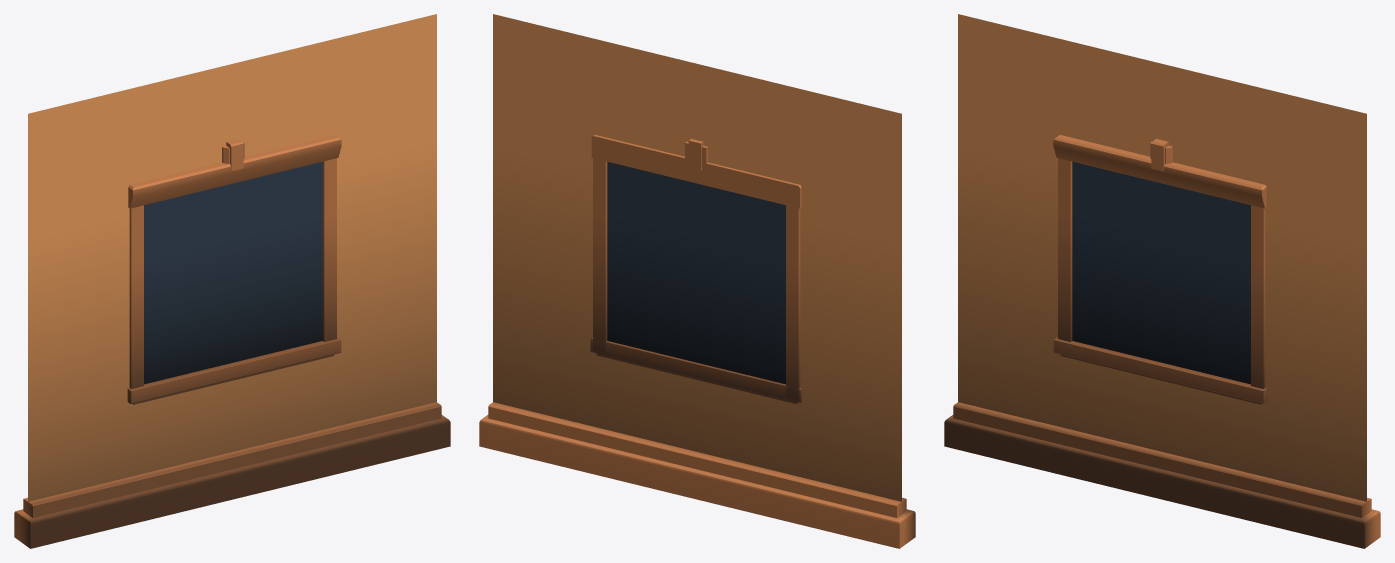
The model's file is blockedWall3.fbx.
The picture shows the model from 3 angles, left to right: view 1: azimuth 30°, elevation 25°; view 2: azimuth 150°, elevation 25°; view 3: azimuth 330°, elevation 25°; orthographic projection.
Visible parts, largest first — view 1: pPlane1, pCube1, pasted__pCube11, pasted__pCube10, pasted__pCube8, pasted__pCube9; view 2: pPlane1, pCube1, pasted__pCube11, pasted__pCube10, pasted__pCube8, pasted__pCube9, pasted__pCube12; view 3: pPlane1, pCube1, pasted__pCube11, pasted__pCube10, pasted__pCube8, pasted__pCube9.
Boxes of the visible parts, x1=… form: pPlane1: x1=28, y1=14, x2=436, y2=501; pCube1: x1=14, y1=402, x2=450, y2=548; pasted__pCube11: x1=128, y1=135, x2=341, y2=208; pasted__pCube10: x1=127, y1=337, x2=341, y2=403; pasted__pCube8: x1=129, y1=205, x2=143, y2=388; pasted__pCube9: x1=322, y1=158, x2=336, y2=341; pPlane1: x1=493, y1=14, x2=901, y2=501; pCube1: x1=479, y1=402, x2=915, y2=548; pasted__pCube11: x1=591, y1=135, x2=801, y2=208; pasted__pCube10: x1=590, y1=337, x2=802, y2=402; pasted__pCube8: x1=786, y1=205, x2=800, y2=399; pasted__pCube9: x1=593, y1=158, x2=607, y2=352; pasted__pCube12: x1=596, y1=353, x2=797, y2=404; pPlane1: x1=958, y1=14, x2=1366, y2=501; pCube1: x1=944, y1=402, x2=1380, y2=548; pasted__pCube11: x1=1053, y1=135, x2=1266, y2=208; pasted__pCube10: x1=1053, y1=337, x2=1267, y2=403; pasted__pCube8: x1=1058, y1=158, x2=1072, y2=341; pasted__pCube9: x1=1251, y1=205, x2=1265, y2=388.
Bounding box in the file's own units: 3.08 × 3 × 0.2062.
